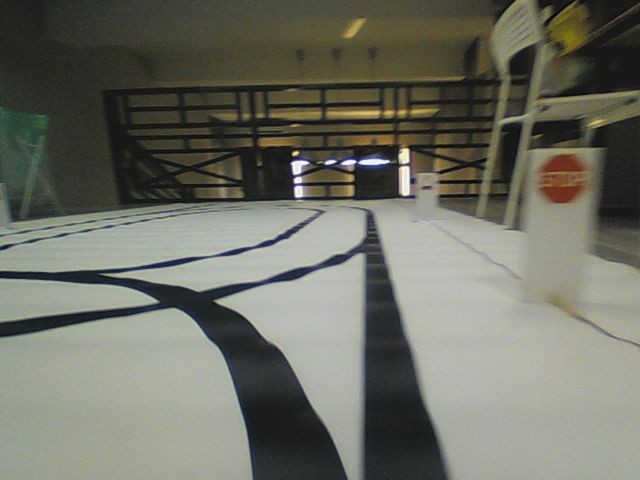Stop: (535, 151, 590, 205)
